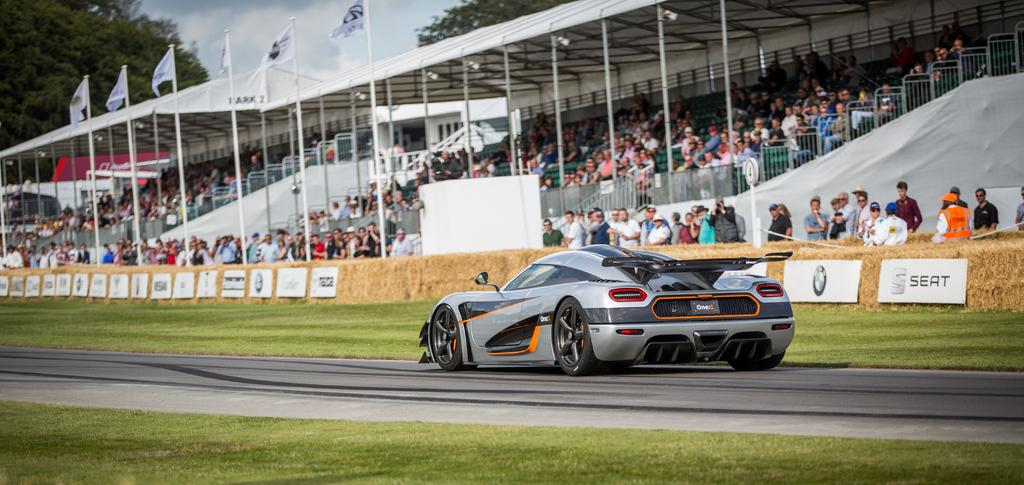Car: (392, 245, 801, 385)
